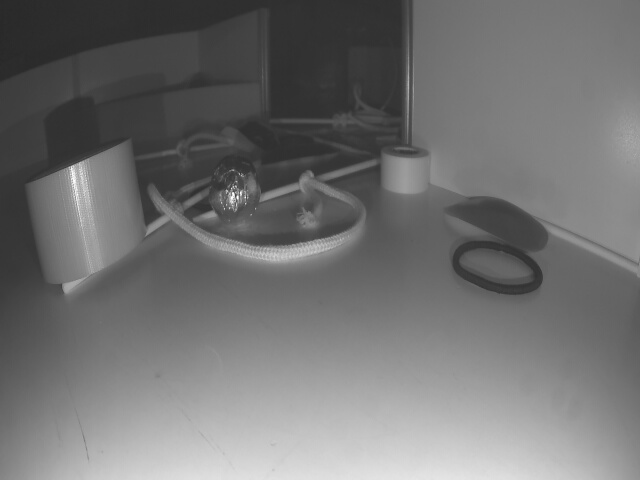Live: (214, 157, 257, 222)
Point: (93, 82, 261, 138)
